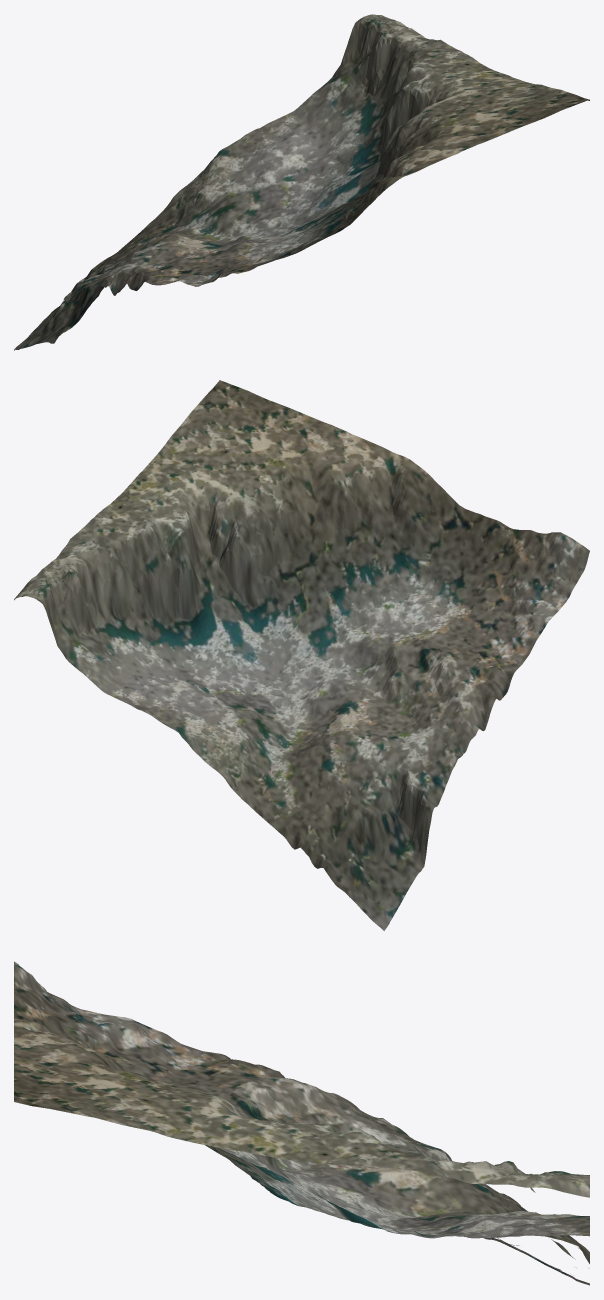
3 views of the same model, one above another, from view 1: azimuth 30°, elevation 25°; view 2: azimuth 150°, elevation 25°; view 3: azimuth 270°, elevation 25° (orthographic). The views are drawn at different scales.
Size of the model in its own units: 250 by 201 by 241.
Materials: 1 (1 with a texture image).
